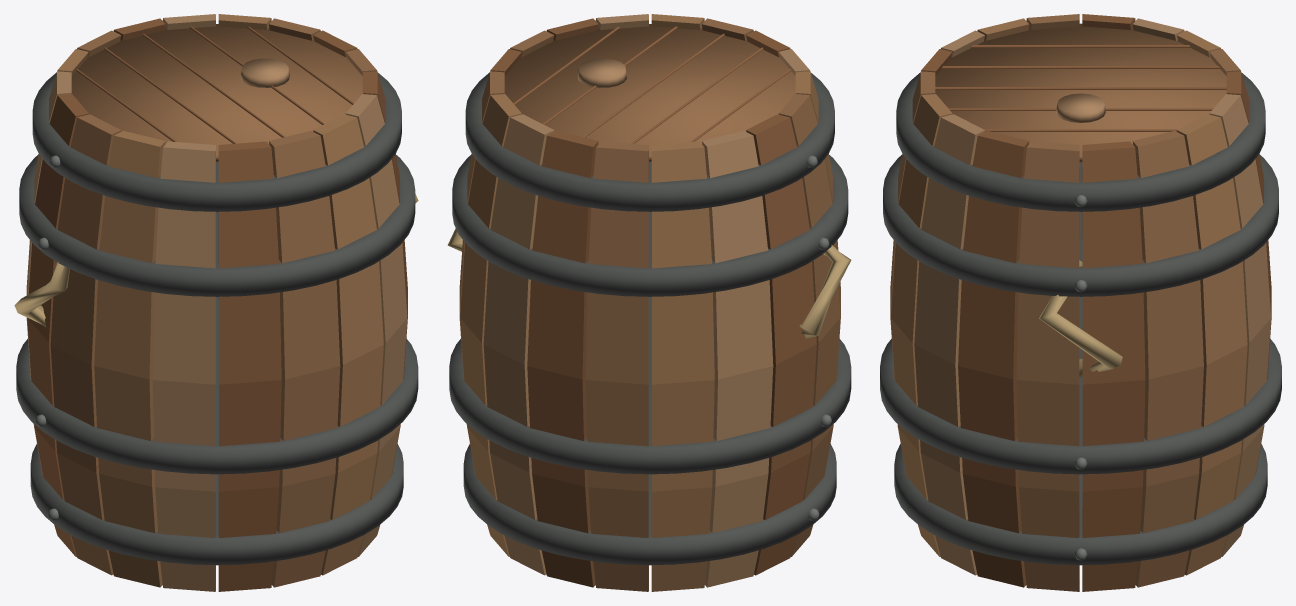
The model's file is water.glb.
3 renders of one model, left to right at view 1: azimuth 30°, elevation 25°; view 2: azimuth 150°, elevation 25°; view 3: azimuth 270°, elevation 25°, orthographic.
Parts seen in each view (by area): view 1: Cargo_water; view 2: Cargo_water; view 3: Cargo_water.
Boxes of the visible parts, left/top/right/bottom form: Cargo_water: left=14, top=14, right=418, bottom=591; Cargo_water: left=447, top=14, right=851, bottom=591; Cargo_water: left=880, top=14, right=1281, bottom=591.
Size of the model in its own units: 0.7689 by 0.885 by 0.7273.
